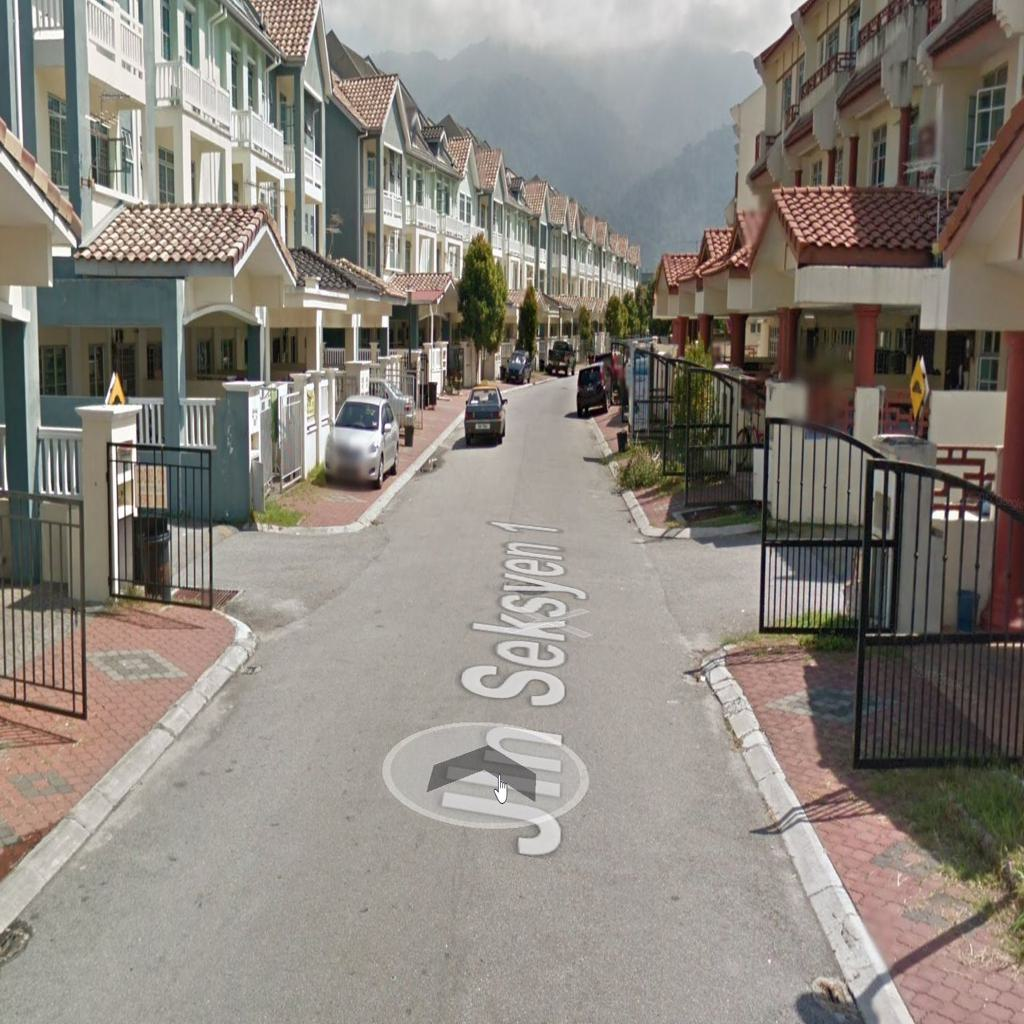Junction: (609, 499, 858, 671), (155, 484, 362, 660)
